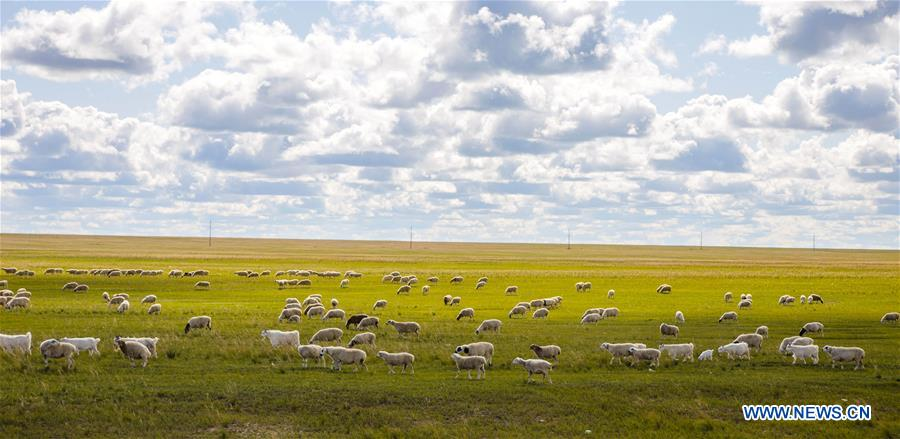sheep: (39, 338, 78, 374), (322, 344, 366, 372), (510, 355, 554, 383), (113, 338, 152, 369), (376, 348, 417, 376), (258, 328, 301, 353), (822, 345, 866, 369), (448, 351, 488, 377), (600, 341, 645, 363), (386, 318, 423, 339), (784, 342, 819, 364), (660, 342, 694, 364), (526, 343, 563, 363), (626, 346, 660, 367), (310, 327, 345, 345), (183, 313, 212, 332), (719, 342, 750, 358), (474, 320, 503, 336), (278, 306, 302, 323), (455, 306, 475, 324), (356, 315, 381, 329), (799, 322, 824, 335), (658, 322, 679, 337), (656, 320, 677, 335), (660, 321, 679, 337), (323, 309, 345, 321), (508, 306, 528, 319), (581, 313, 601, 326), (6, 298, 31, 308), (718, 313, 738, 325), (602, 308, 620, 320), (532, 307, 551, 318), (139, 295, 157, 305), (118, 298, 130, 312), (147, 303, 163, 313)
